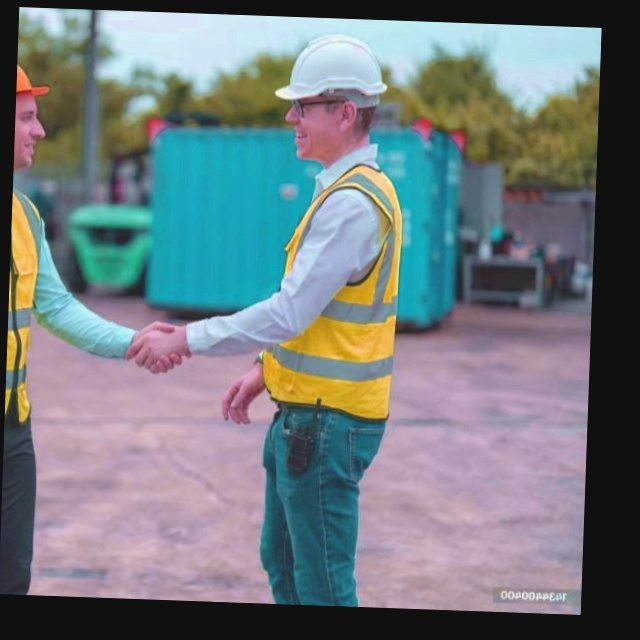Con_Casco: (273, 32, 390, 165)
Con_Chaleco: (258, 163, 410, 407)
